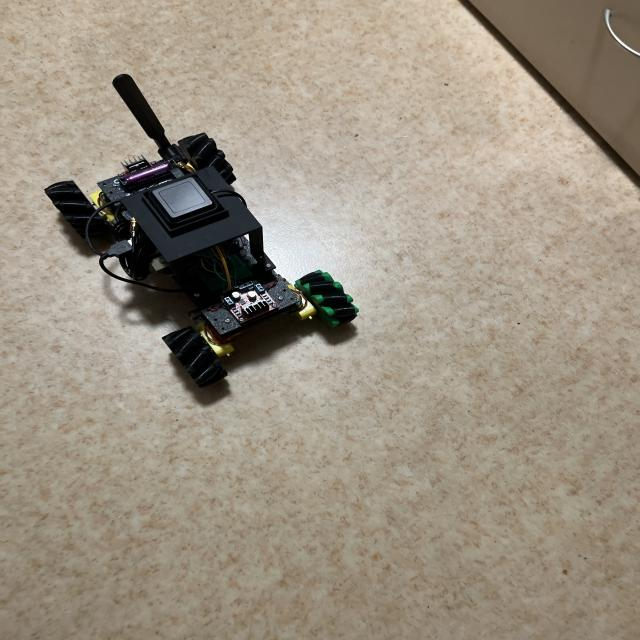robot: (45, 74, 358, 387)
